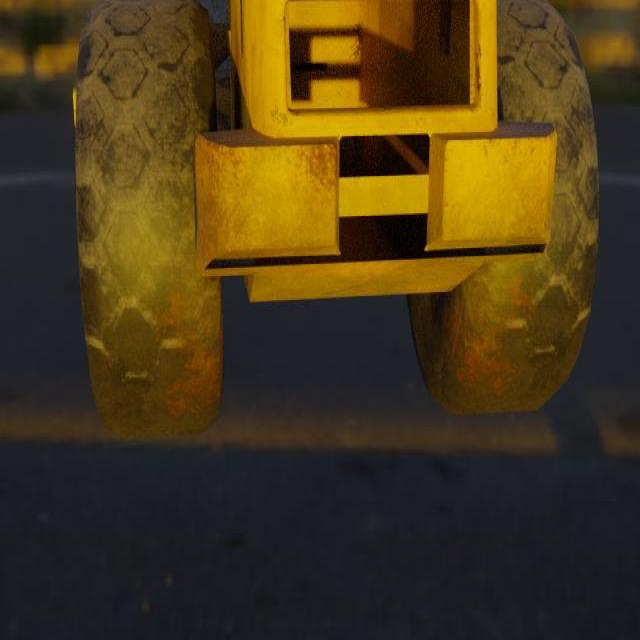Roller: (72, 0, 599, 440)
